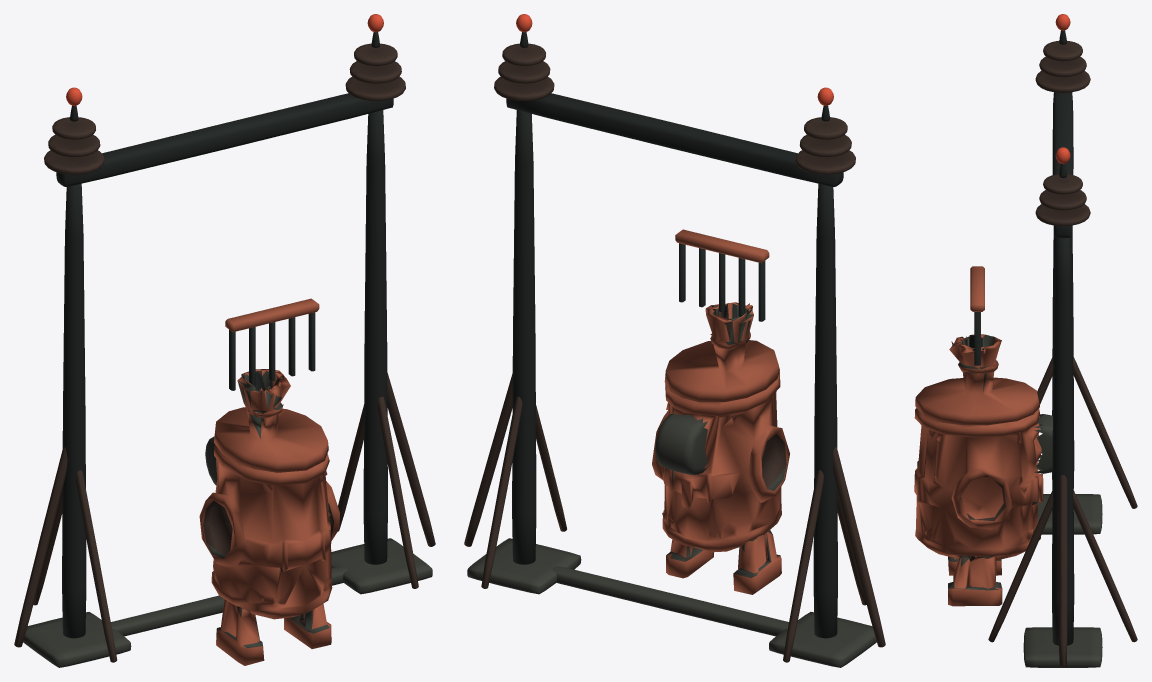
File: enemy_netcaster_tripo.glb
3 renders of one model, left to right at view 1: azimuth 30°, elevation 25°; view 2: azimuth 150°, elevation 25°; view 3: azimuth 270°, elevation 25°, orthographic. The views are drawn at different scales.
Visible parts, largest first — view 1: NetcasterBody; view 2: NetcasterBody; view 3: NetcasterBody.
Boxes of the visible parts, <box> form: NetcasterBody: <box>14,14,435,667</box>; NetcasterBody: <box>464,14,885,667</box>; NetcasterBody: <box>914,14,1137,667</box>.
Bounding box in the file's own units: 3.35 × 4.24 × 1.7.
